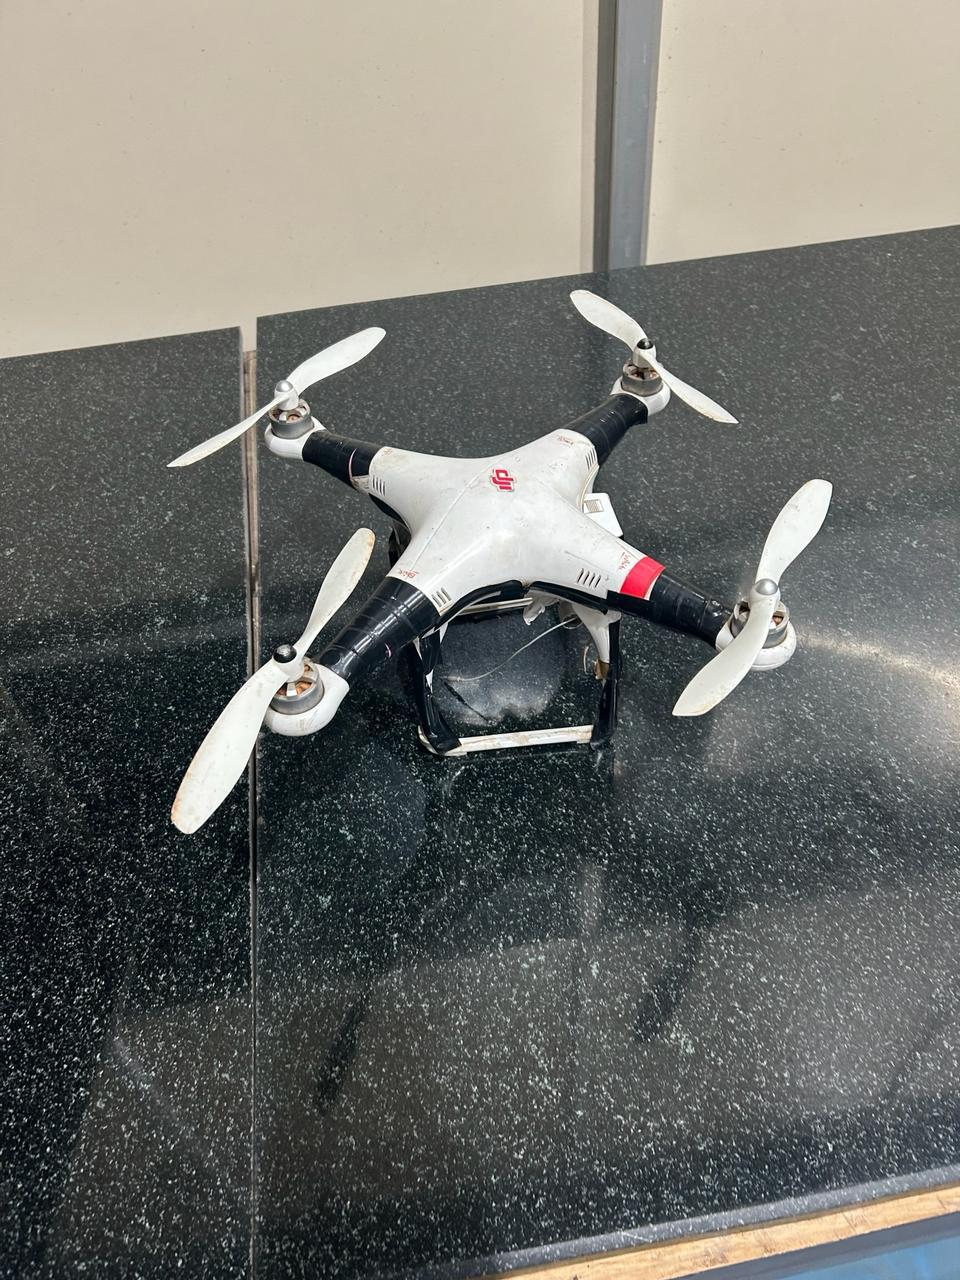drone: (160, 251, 865, 869)
